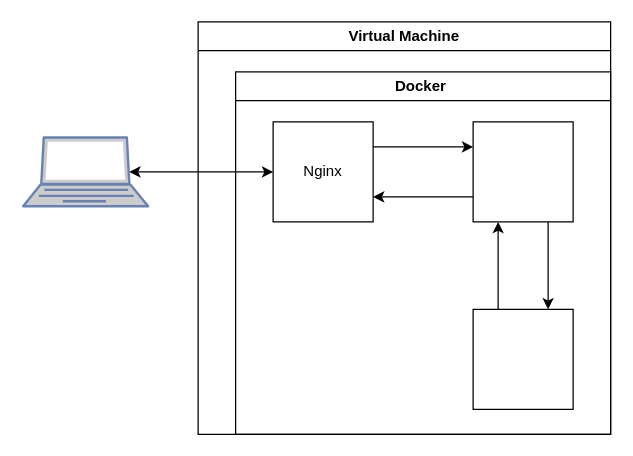
Some shapes in this 633 by 456 pixel diagram are drawn without their labels. Here are the shapes that lost their labels. From the top down, the centre of each, then its label:
At point 522,171: "WikiJS".
At point 522,358: "PostgreSQL".
